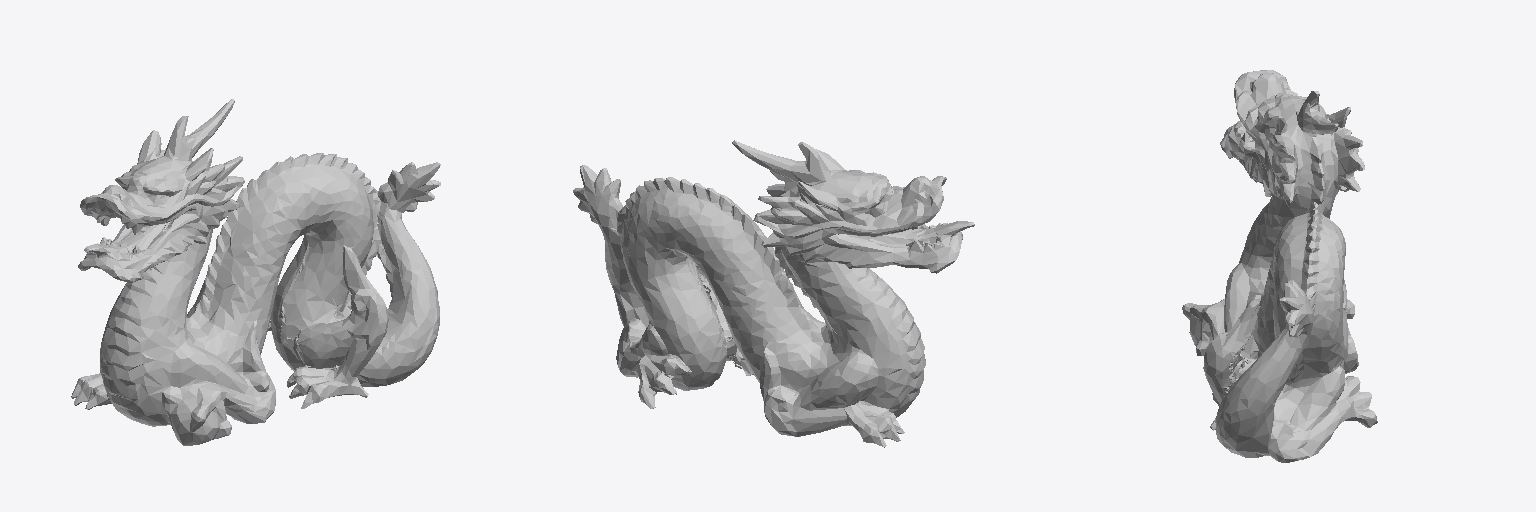
Rendered from dragon_mq.obj.
3 views of the same model, side by side, from view 1: azimuth 30°, elevation 25°; view 2: azimuth 150°, elevation 25°; view 3: azimuth 270°, elevation 25° (orthographic).
Parts seen in each view (by area): view 1: default.001; view 2: default.001; view 3: default.001.
Boxes of the visible parts, <box> form: default.001: <box>71,99,440,445</box>; default.001: <box>573,140,974,447</box>; default.001: <box>1182,70,1377,462</box>.
Size of the model in its own units: 14.08 by 9.92 by 6.31.